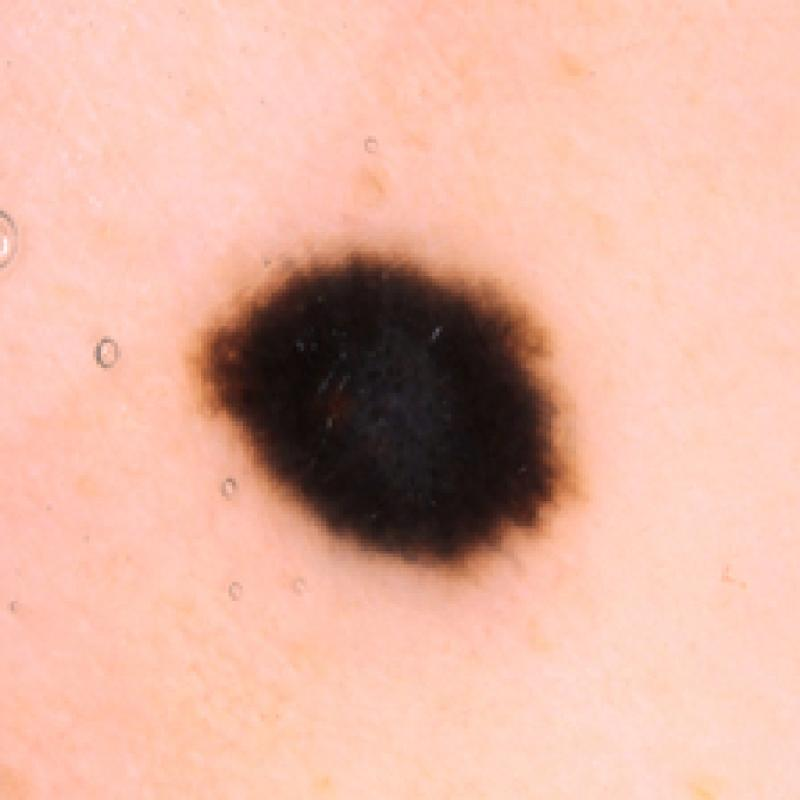benign: (176, 211, 610, 595)
